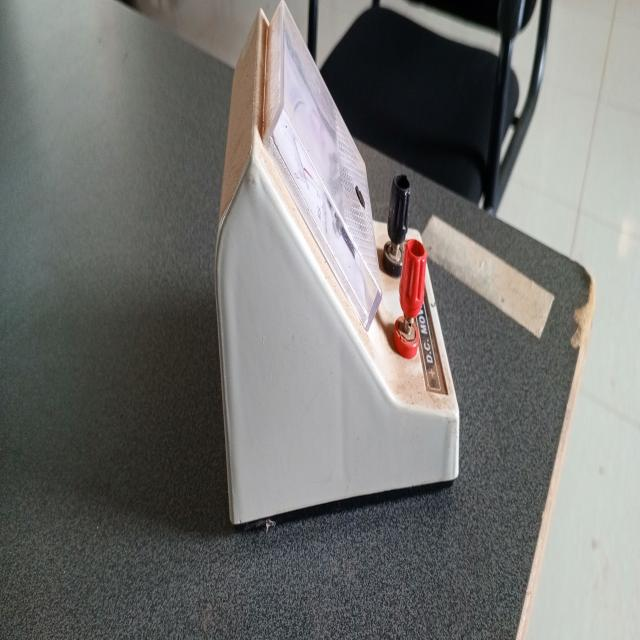Ammeter Analog: (203, 13, 462, 534)
